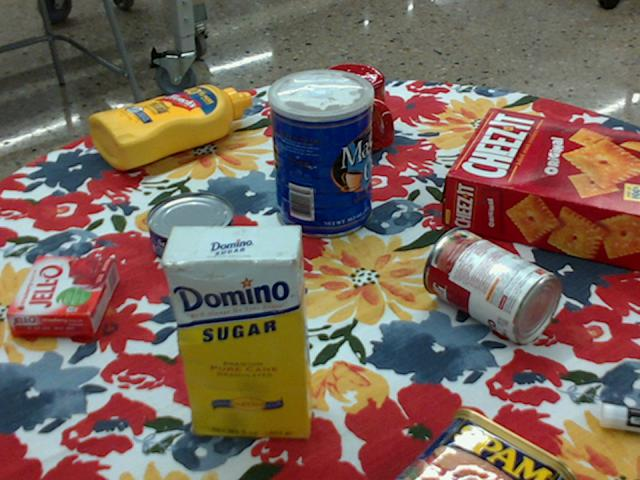cracker_box: (442, 108, 639, 272)
gelatin_box: (8, 258, 119, 340)
large_marker: (601, 401, 639, 430)
master_chef_can: (268, 69, 374, 238)
mug: (311, 64, 392, 157)
mustard_bottle: (87, 85, 250, 169)
potted_meat_can: (396, 407, 582, 479)
sugar_box: (158, 223, 315, 439)
tomato_soup_can: (424, 227, 563, 343)
tuna_fish_can: (144, 193, 233, 266)
